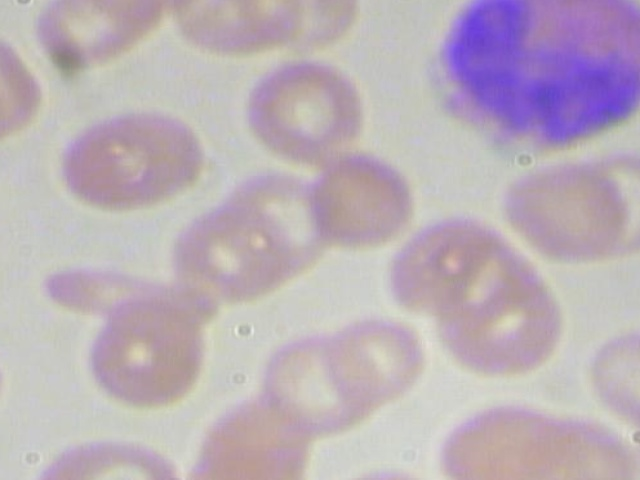RBC: (54, 104, 225, 214), (250, 329, 397, 440), (233, 51, 377, 164), (494, 153, 640, 264), (66, 296, 212, 407), (297, 150, 428, 258), (31, 0, 162, 85), (579, 316, 640, 424)
WBC: (410, 0, 640, 164)
